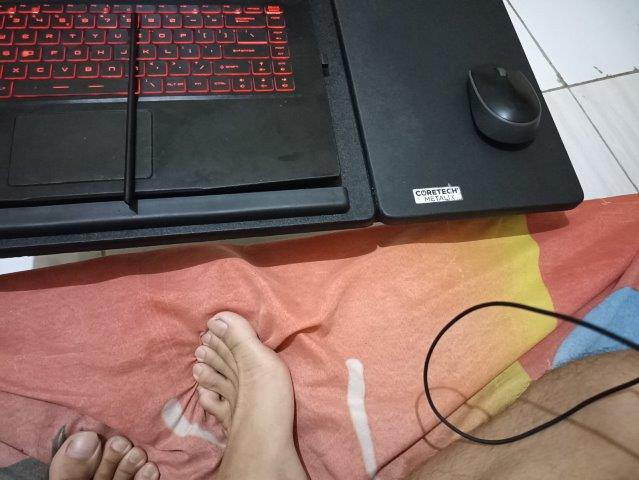sedotan: (125, 15, 136, 207)
